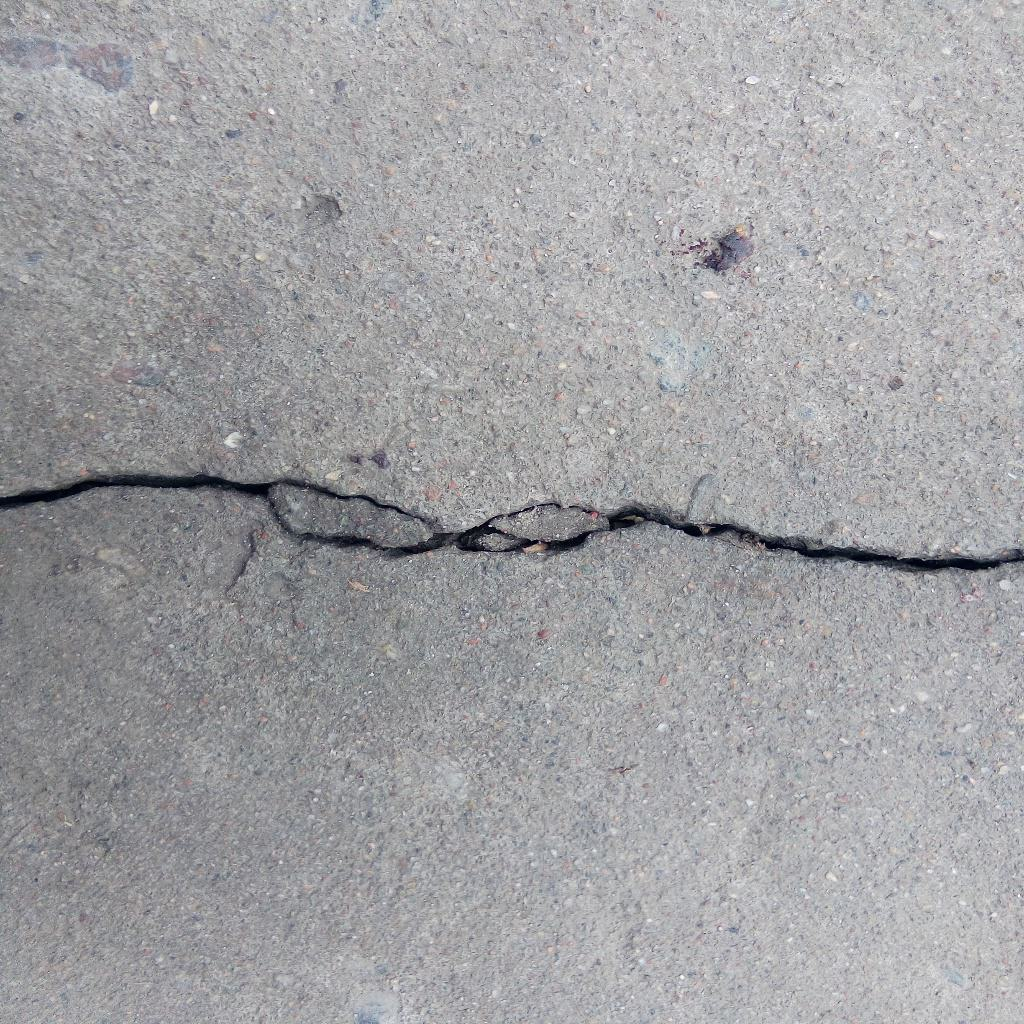Crack: (1, 472, 1024, 575)
